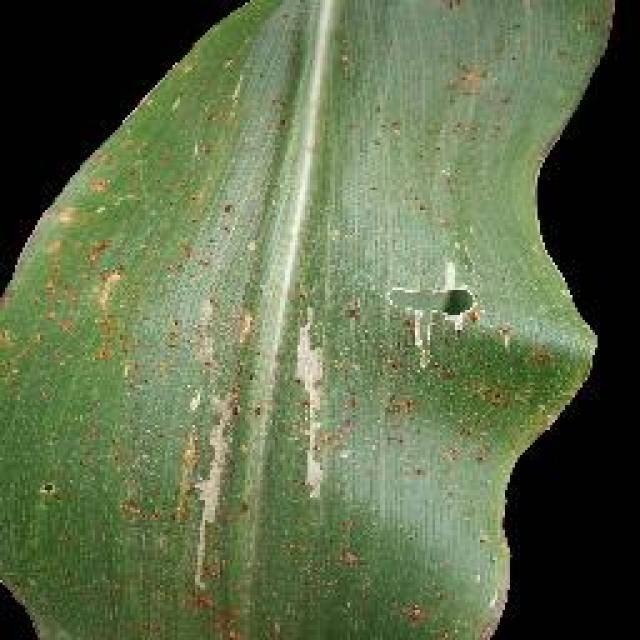Corn Common Rust: (87, 117, 530, 595)
